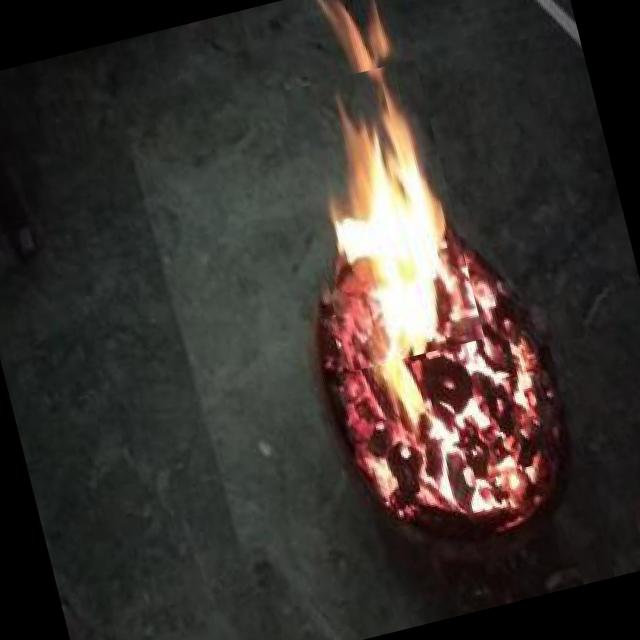fire: (280, 58, 484, 372)
